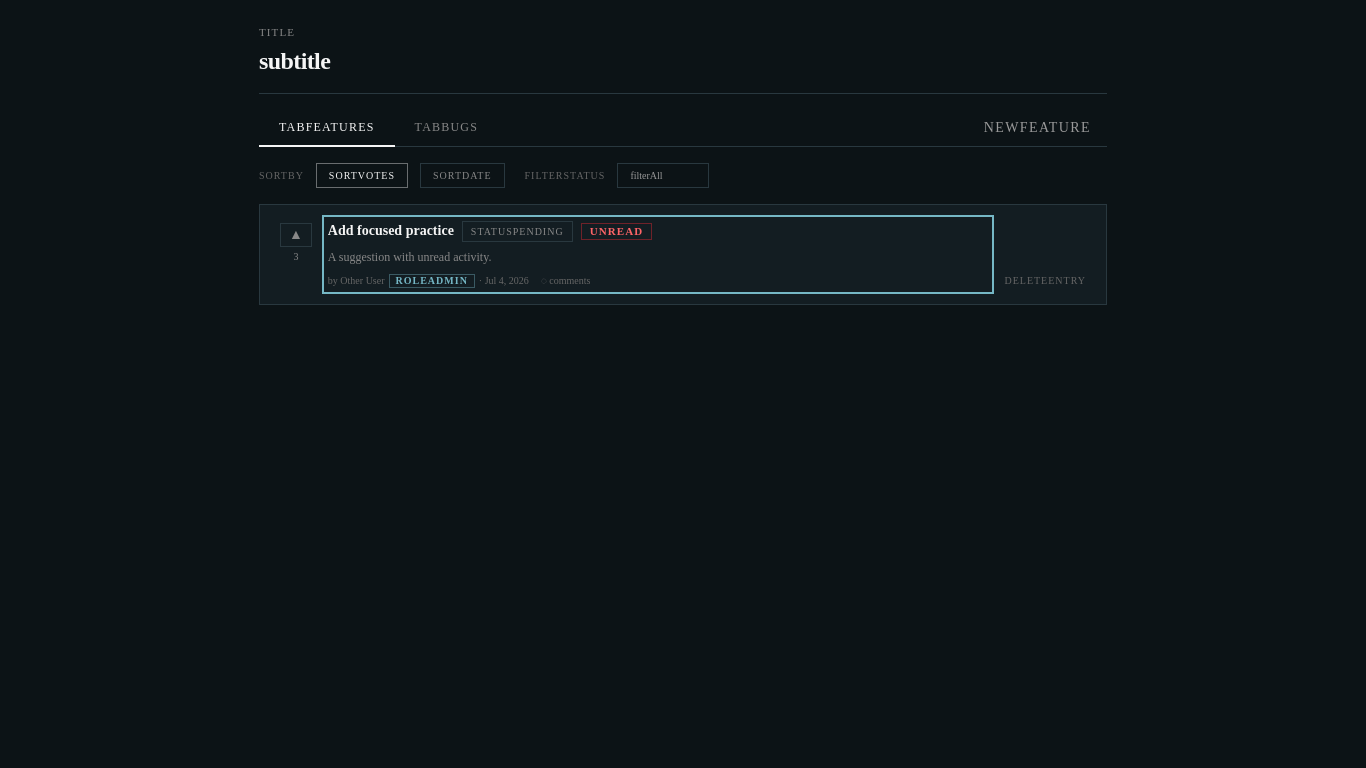
FeedbackPage list and entry actions › exposes a focused native primary action without nesting vote or delete controls
The width and height of the screenshot is (1366, 768).
Expected: the button "Add focused practice" shows "unread", [328,220,988,288]
Expected: the button "Add focused practice" shows "statusPending", [328,220,988,288]
What coordinates should you click on to do the following:
click the button "deleteEntry"
I would click on:
 (1045, 280)
Its box is [1004,273,1086,288].
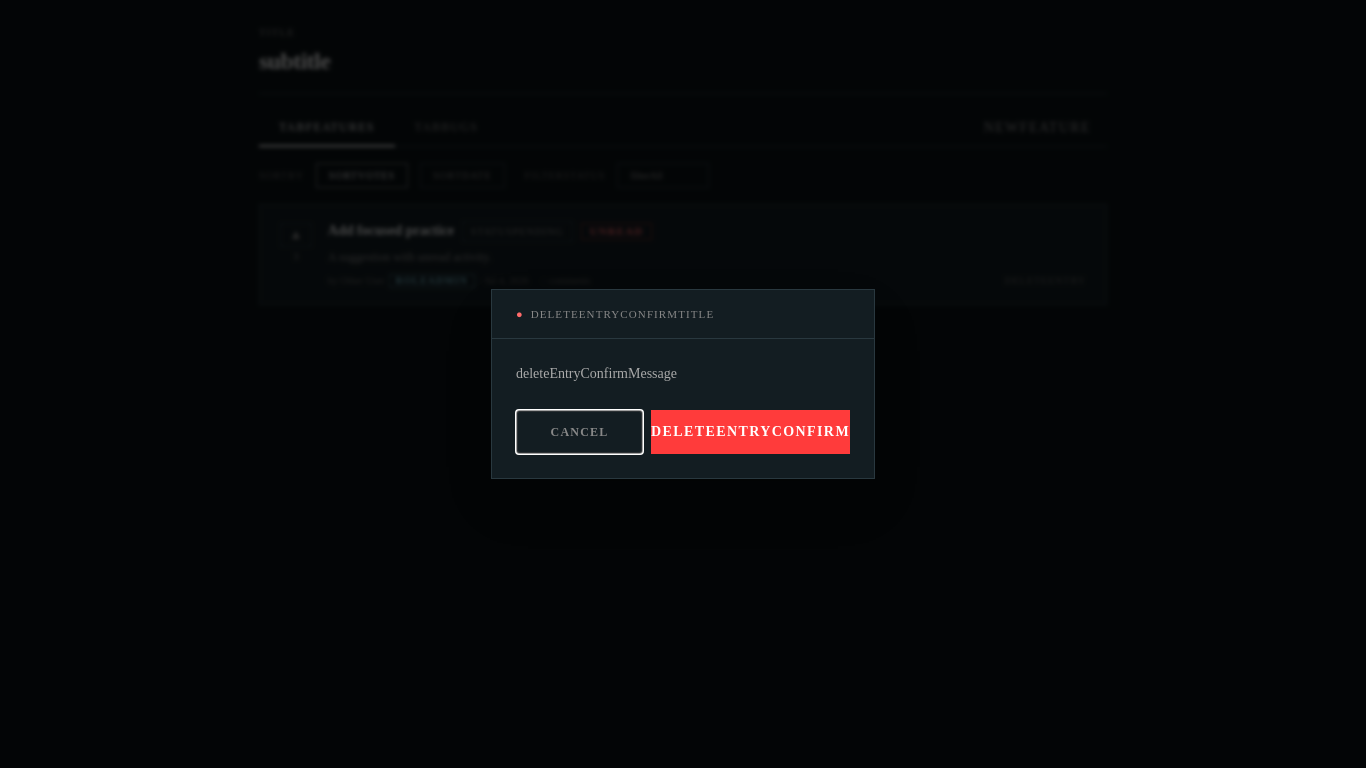
Expected: the dialog is shown, [491,289,875,479]
